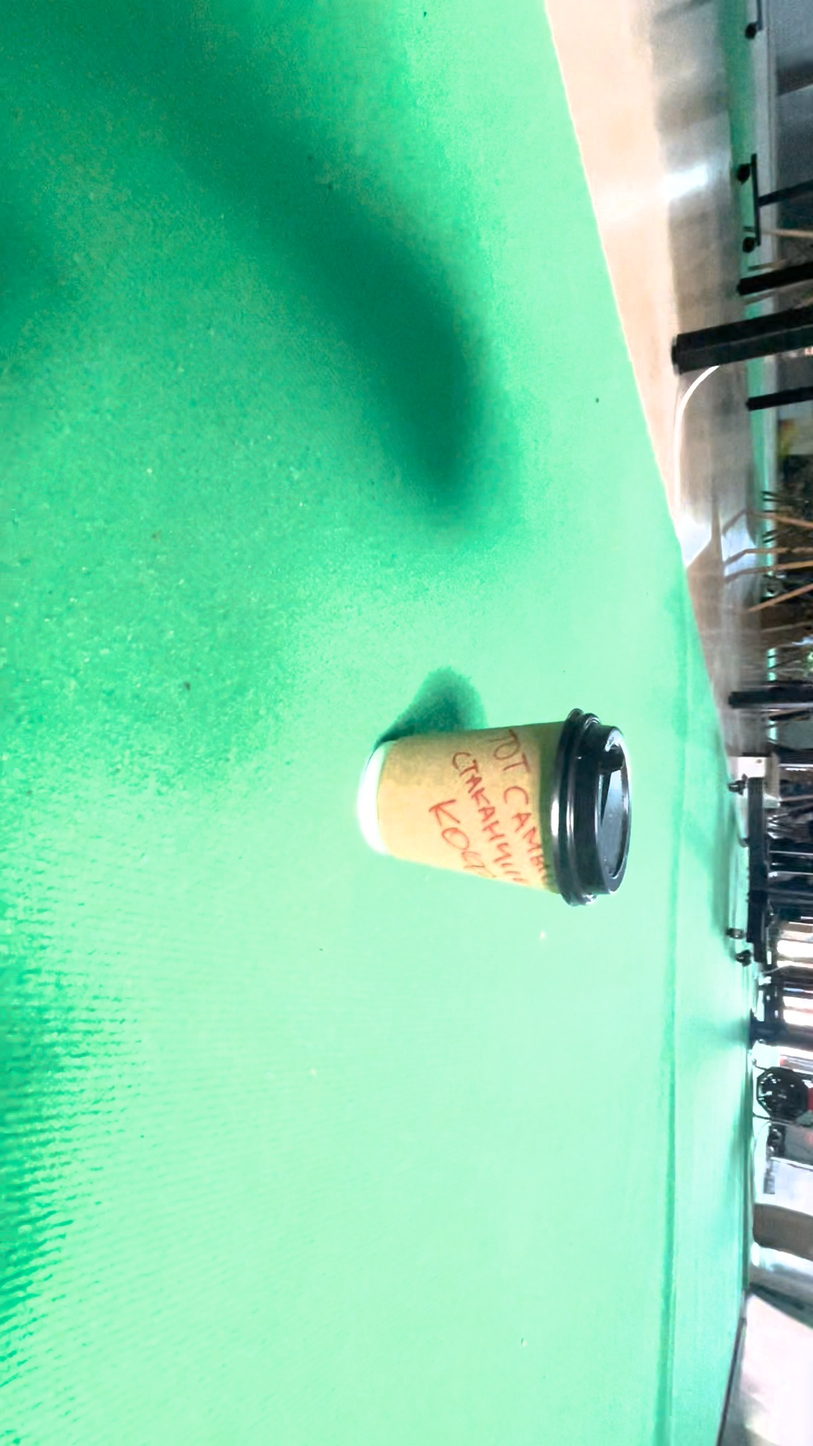cup: (446, 599, 530, 1008)
